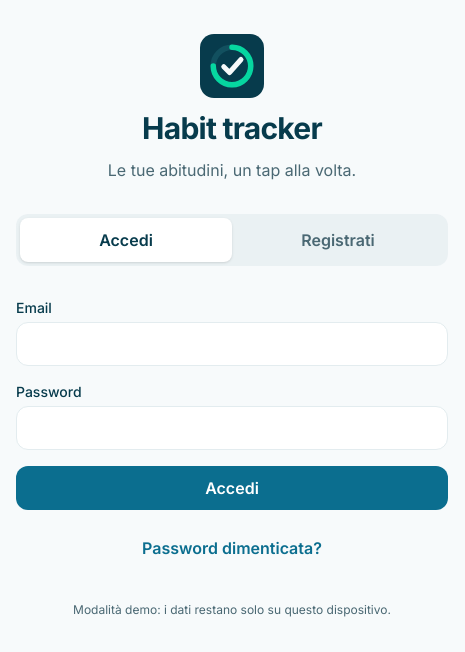
Test: LoginPage › mostra l’errore con credenziali sbagliate
The image size is (465, 652).
Type "ada@example.com" into the field labelled "Email". click: (232, 344)
box: [16,322,448,366]
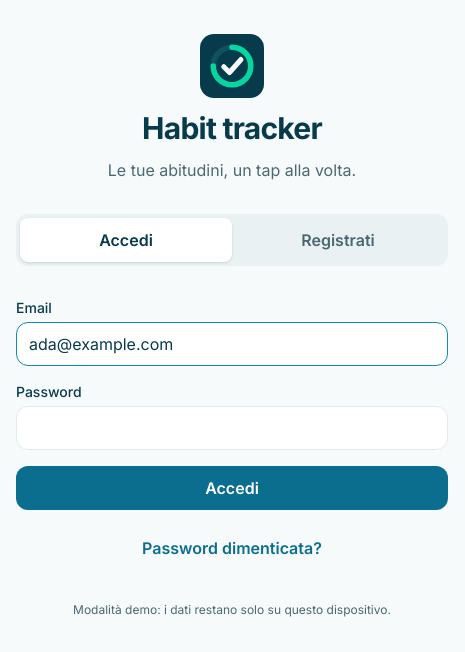
Type "password1" into the password field labelled "Password". click: (232, 428)
box: [16,406,448,450]
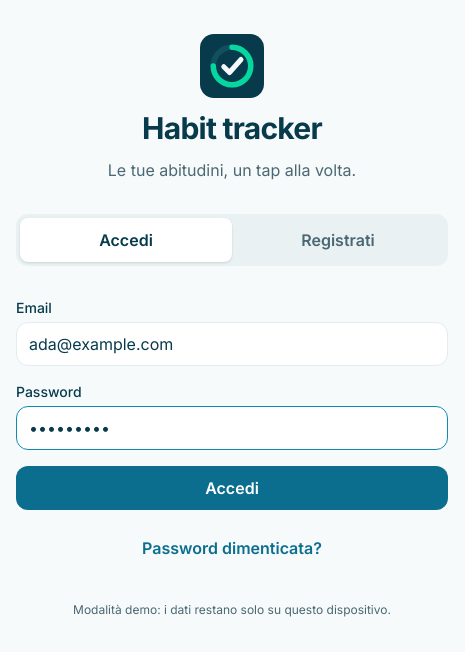
Click the button "Accedi". click: click(232, 488)
box: [16,466,448,510]
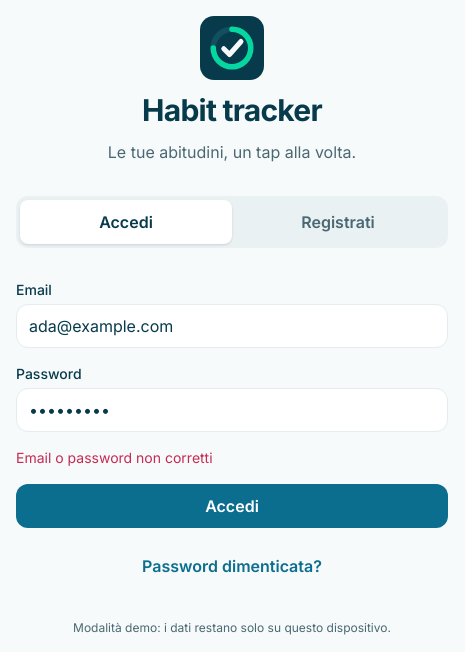
Now the message reads "Email o password non corretti", box [16,449,213,466]
